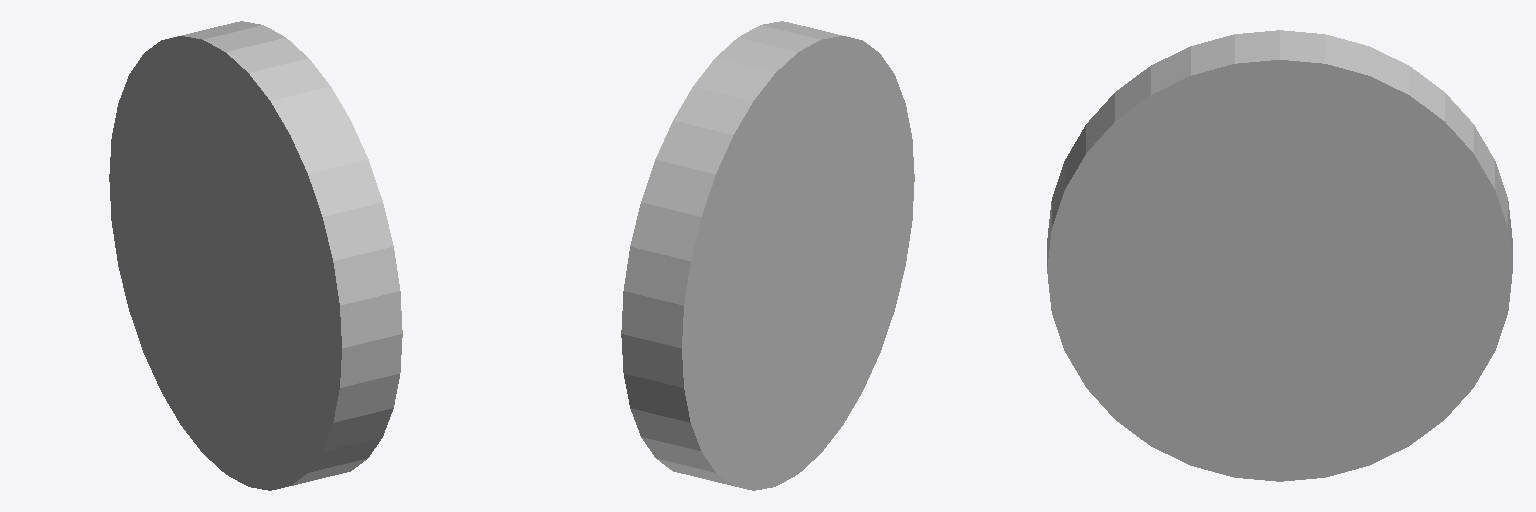
File: coin.obj
3 renders of one model, left to right at view 1: azimuth 30°, elevation 25°; view 2: azimuth 150°, elevation 25°; view 3: azimuth 270°, elevation 25°, orthographic.
Visible parts, largest first — view 1: Object_coin-texture.jpg, Object_gold.jpg; view 2: Object_coin-texture.jpg, Object_gold.jpg; view 3: Object_coin-texture.jpg, Object_gold.jpg.
Boxes of the visible parts, box(x1,y1,x2,y2) form: Object_coin-texture.jpg: box(109, 36, 341, 490); Object_gold.jpg: box(169, 21, 402, 485); Object_coin-texture.jpg: box(682, 36, 914, 490); Object_gold.jpg: box(621, 21, 854, 485); Object_coin-texture.jpg: box(1047, 60, 1512, 481); Object_gold.jpg: box(1047, 30, 1512, 266).
Bounding box in the file's own units: 0.3753 × 2.5 × 2.5.